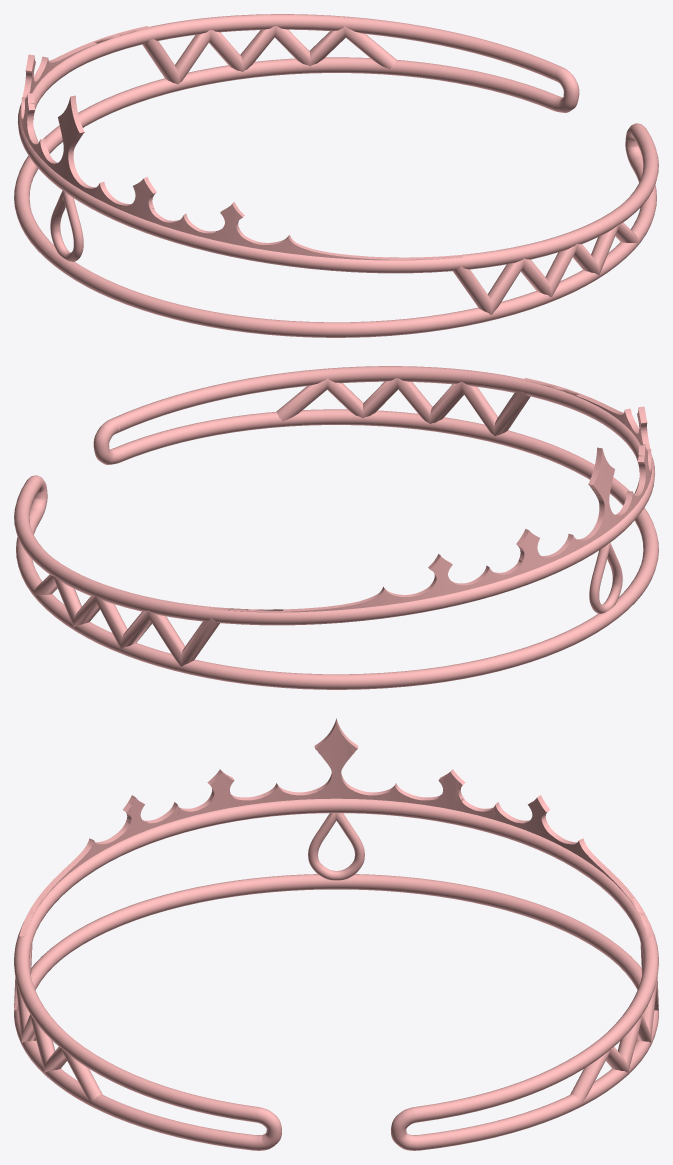
The model's file is 7-pink.gltf.
The picture shows the model from 3 angles, top to bottom: view 1: azimuth 30°, elevation 25°; view 2: azimuth 150°, elevation 25°; view 3: azimuth 270°, elevation 25°; orthographic projection.
Parts seen in each view (by area): view 1: Arc002, crown, Line002, Line001, Line003; view 2: Arc002, crown, Line001, Line002, Line003; view 3: Arc002, crown, Line002, Line001, Line003.
Part boxes in pixels (x1,y1,x2,y2): Arc002: (14,14,658,337); crown: (20,26,462,260); Line002: (142,26,396,84); Line001: (453,213,638,314); Line003: (50,190,83,261); Arc002: (14,366,658,689); crown: (210,378,652,612); Line001: (276,378,530,435); Line002: (34,565,219,666); Line003: (589,542,622,613); Arc002: (14,798,658,1150); crown: (19,718,653,936); Line002: (570,943,658,1102); Line001: (14,943,102,1102); Line003: (308,813,364,880).
Size of the model in its own units: 20.32 by 6.09 by 20.5.
